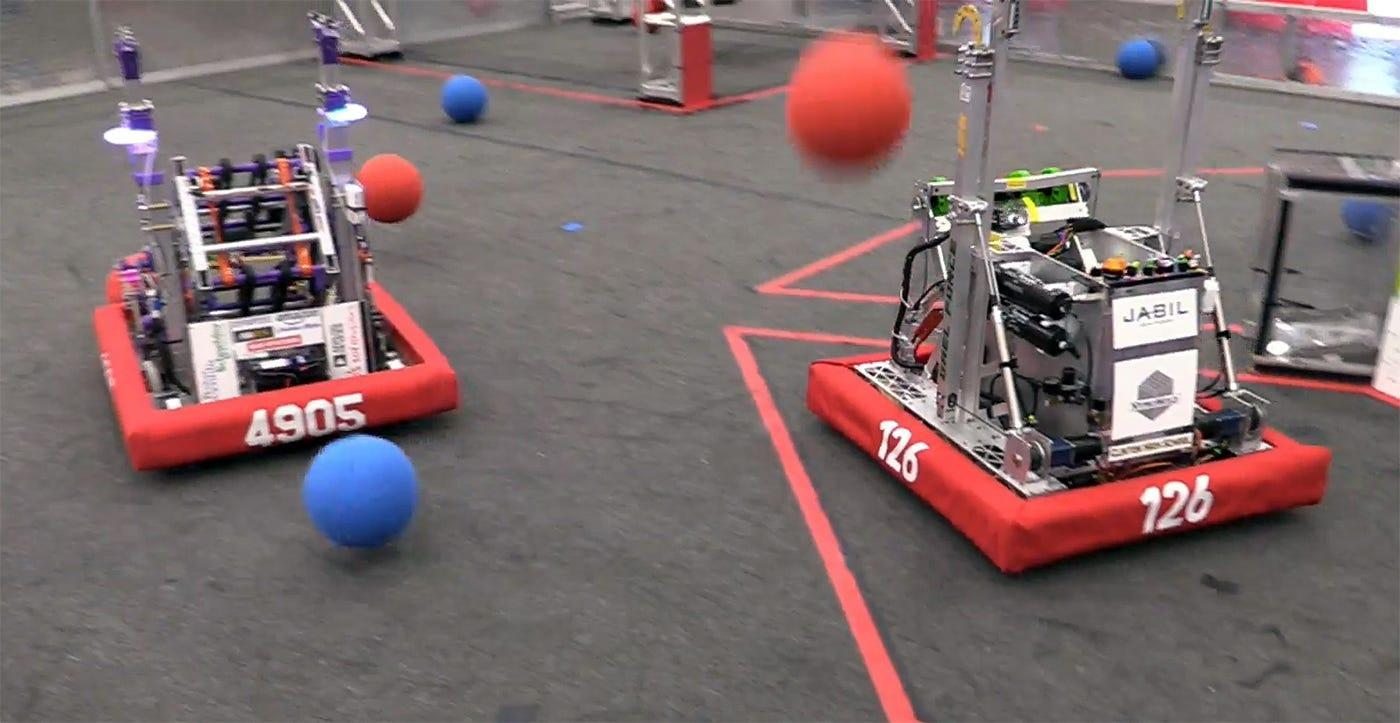robot: (799, 0, 1334, 586), (85, 6, 464, 482)
